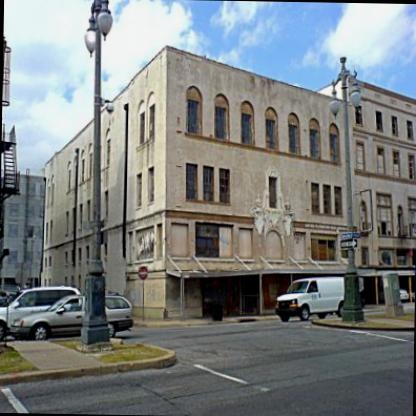car: (8, 292, 135, 342), (0, 295, 13, 310), (399, 288, 409, 301), (5, 290, 16, 300), (408, 289, 414, 301), (0, 294, 2, 307)
